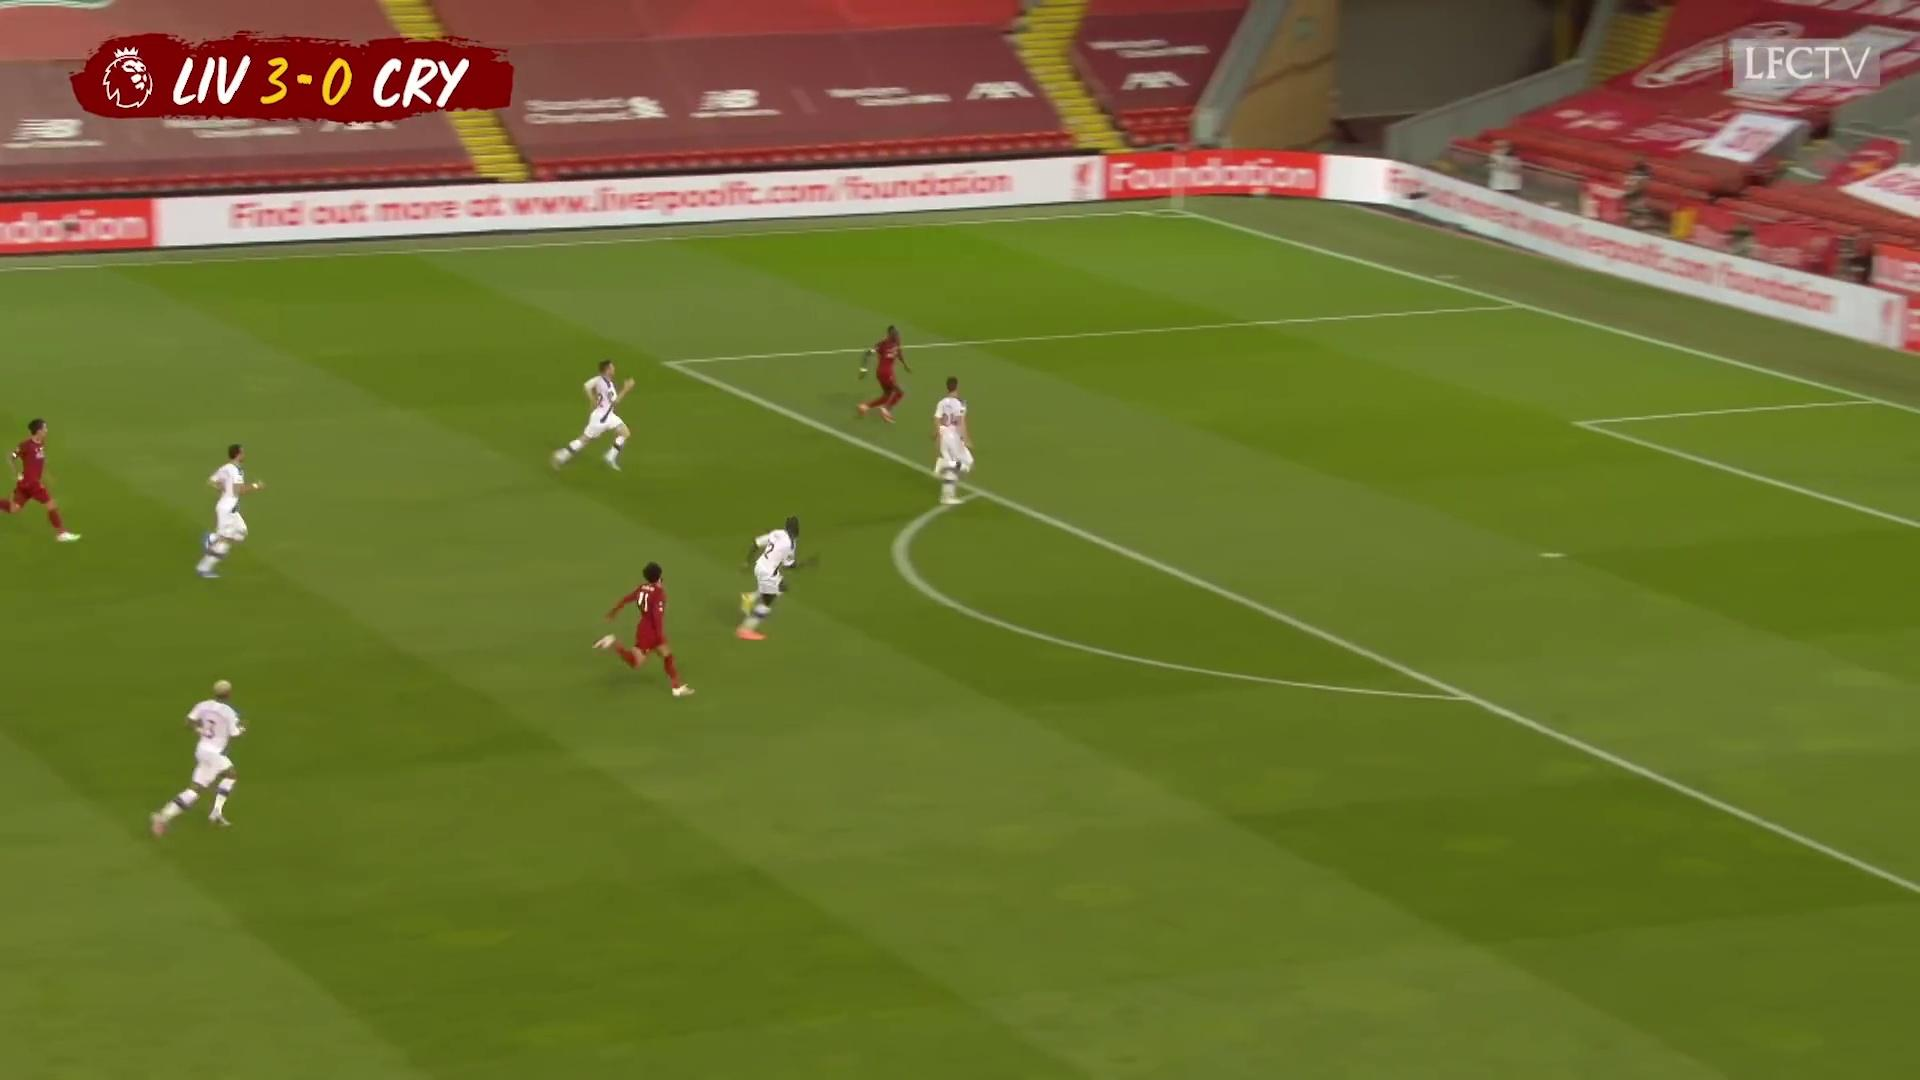player: (144, 674, 251, 845), (595, 560, 696, 702), (186, 445, 266, 590), (549, 358, 643, 481), (0, 411, 85, 547), (728, 514, 809, 646), (925, 373, 979, 508), (851, 320, 914, 430)
